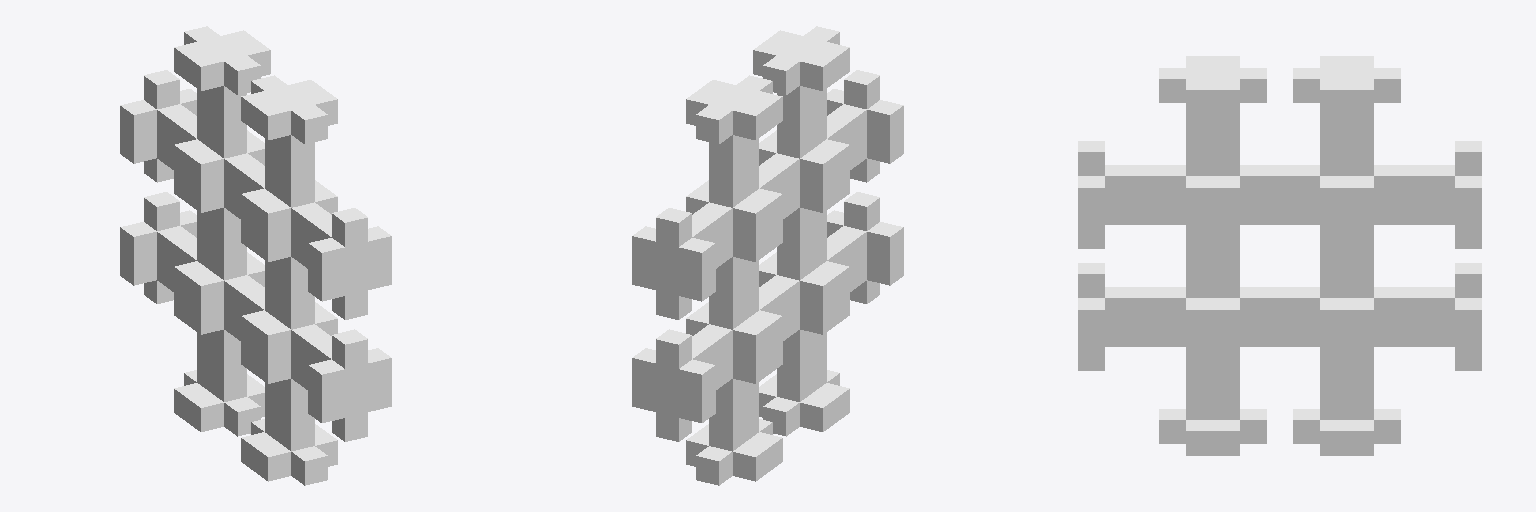
Rendered from MetalBars.obj.
The picture shows the model from 3 angles: view 1: azimuth 30°, elevation 25°; view 2: azimuth 150°, elevation 25°; view 3: azimuth 270°, elevation 25°; orthographic projection.
Parts seen in each view (by area): view 1: MetalBars; view 2: MetalBars; view 3: MetalBars.
Part boxes in pixels (x1,y1,x2,y2): MetalBars: (120, 26, 391, 485); MetalBars: (632, 26, 903, 485); MetalBars: (1078, 56, 1481, 455).
Bounding box in the file's own units: 3 × 15 × 15.